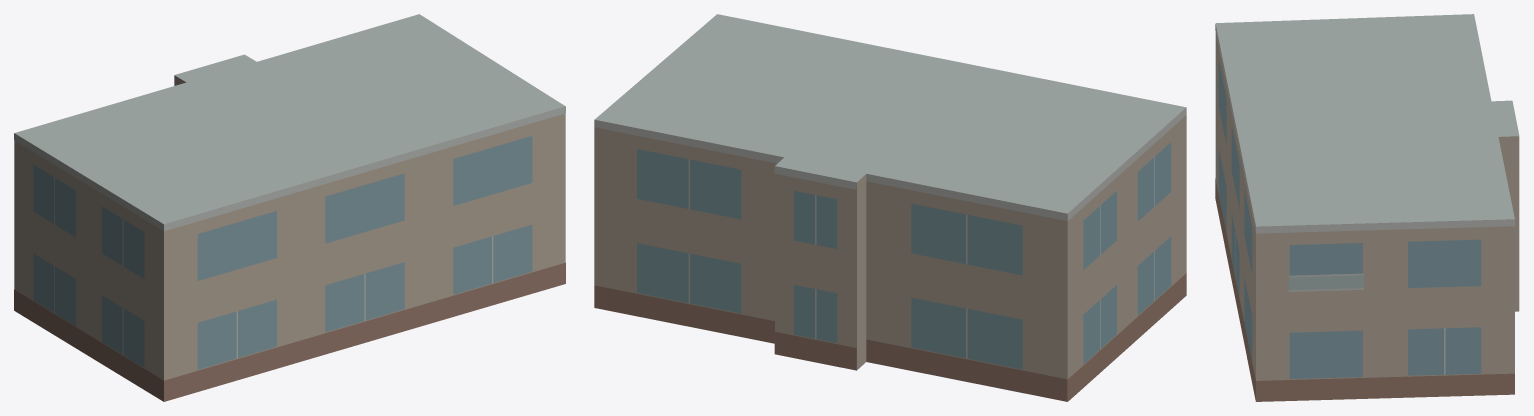
Rendered from survey-upis-32613084.glb.
The picture shows the model from 3 angles, left to right: view 1: azimuth 30°, elevation 25°; view 2: azimuth 150°, elevation 25°; view 3: azimuth 270°, elevation 25°; orthographic projection. The views are drawn at different scales.
Visible parts, largest first — view 1: survey-upis-32613084.tmp; view 2: survey-upis-32613084.tmp; view 3: survey-upis-32613084.tmp.
Part boxes in pixels (<box>): survey-upis-32613084.tmp: <box>14,14,565,401</box>; survey-upis-32613084.tmp: <box>594,14,1186,401</box>; survey-upis-32613084.tmp: <box>1215,14,1519,401</box>.
Size of the model in its own units: 15.87 by 6.1 by 9.6.
